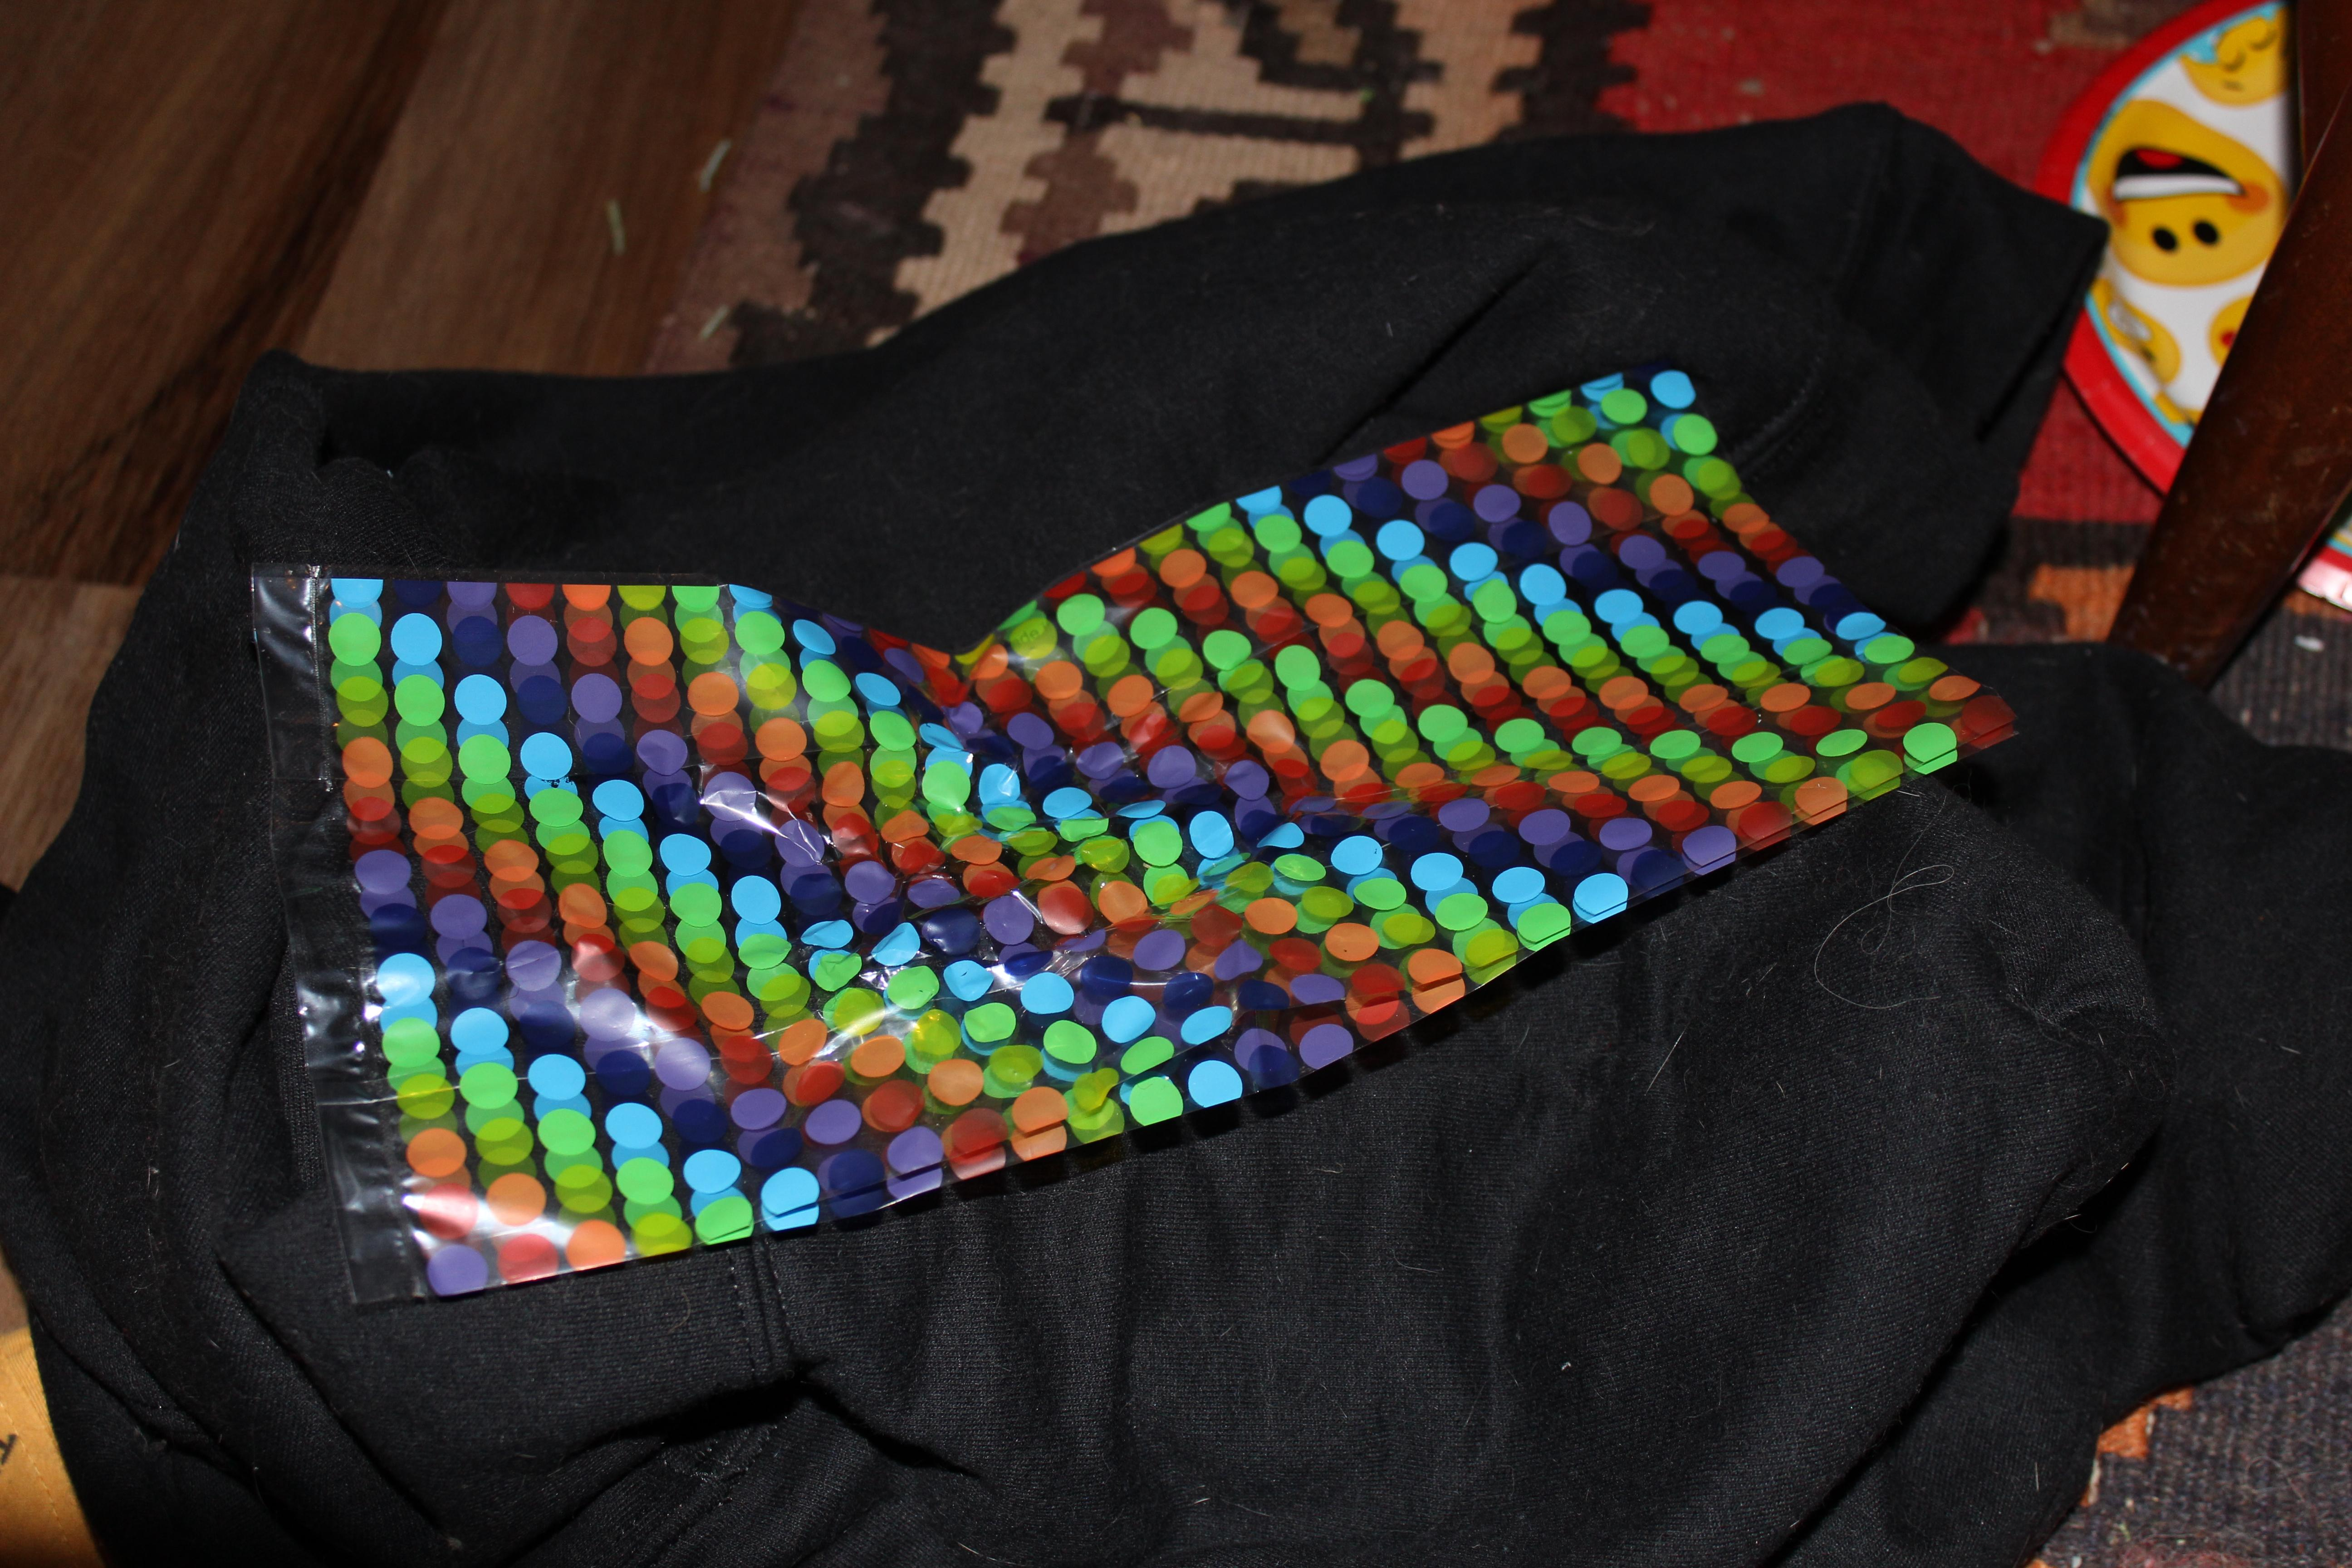giftBag: (213, 353, 2048, 1339)
